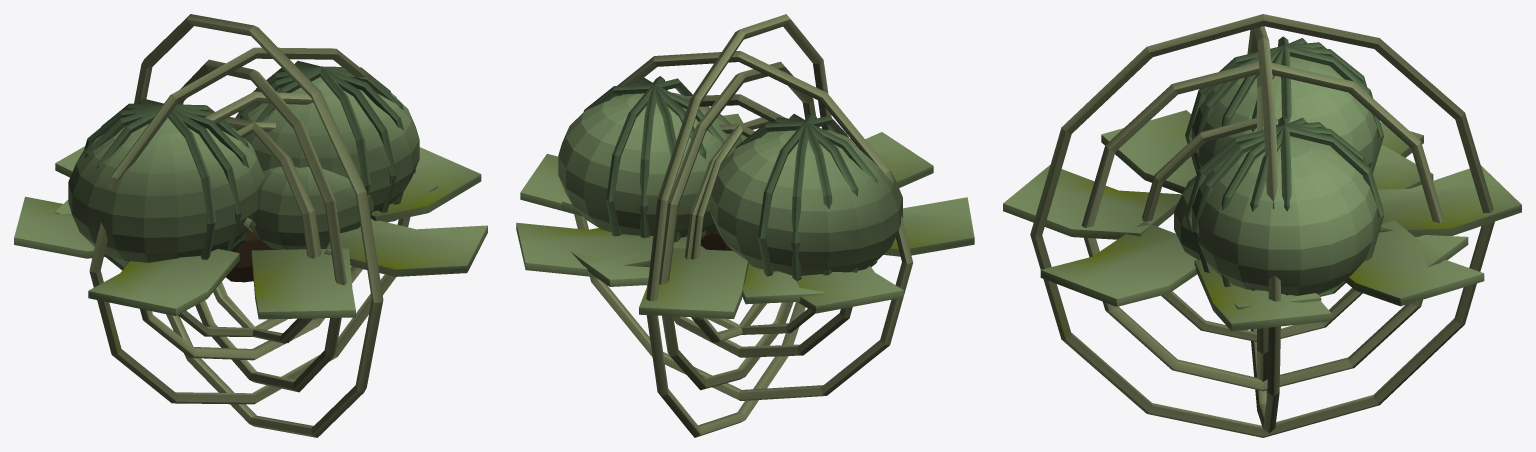
Rendered from crop_watermelon.glb.
3 views of the same model, side by side, from view 1: azimuth 30°, elevation 25°; view 2: azimuth 150°, elevation 25°; view 3: azimuth 270°, elevation 25° (orthographic). The views are drawn at different scales.
Visible parts, largest first — view 1: melon, vine.003, melon.001, vine.002, leaf.005, leaf.006, leaf.004, vine.001, melon2, leaf, vine, leaf.003 (+14 smaller); view 2: melon, melon.001, vine.002, vine.003, leaf.002, vine.001, leaf.001, leaf.004, leaf.003, vine, leaf2.002, leaf.005 (+15 smaller); view 3: melon.001, vine.003, vine.001, leaf.006, melon, leaf.005, leaf.002, leaf.001, vine.002, leaf, leaf.004, vine2.003 (+15 smaller).
Part boxes in pixels (x1,y1,x2,y2): melon: [68, 117, 264, 263]; vine.003: [134, 14, 383, 437]; melon.001: [235, 77, 419, 211]; vine.002: [89, 47, 415, 404]; leaf.005: [251, 248, 355, 319]; leaf.006: [324, 219, 487, 276]; leaf.004: [88, 249, 239, 315]; vine.001: [178, 59, 346, 392]; melon2: [253, 167, 373, 249]; leaf: [370, 147, 481, 221]; vine: [127, 91, 362, 360]; leaf.003: [14, 196, 104, 258]; melon: [710, 129, 902, 275]; melon.001: [558, 92, 742, 237]; vine.002: [574, 51, 913, 400]; vine.003: [646, 14, 832, 437]; leaf.002: [639, 248, 748, 318]; vine.001: [659, 61, 815, 390]; leaf.001: [516, 222, 653, 277]; leaf.004: [883, 197, 974, 256]; leaf.003: [796, 266, 903, 313]; vine: [646, 94, 852, 357]; leaf2.002: [742, 264, 824, 304]; leaf.005: [865, 132, 933, 187]; melon.001: [1191, 136, 1377, 295]; vine.003: [1030, 14, 1494, 437]; vine.001: [1081, 62, 1444, 391]; leaf.006: [1040, 221, 1197, 306]; melon: [1191, 56, 1377, 167]; leaf.005: [1003, 165, 1181, 239]; leaf.002: [1377, 165, 1521, 236]; leaf.001: [1344, 220, 1484, 306]; vine.002: [1247, 26, 1280, 432]; leaf: [1194, 259, 1331, 331]; leaf.004: [1101, 110, 1196, 193]; vine2.003: [1142, 118, 1383, 341].
Bounding box in the file's own units: 1.18 × 1.09 × 1.21.
